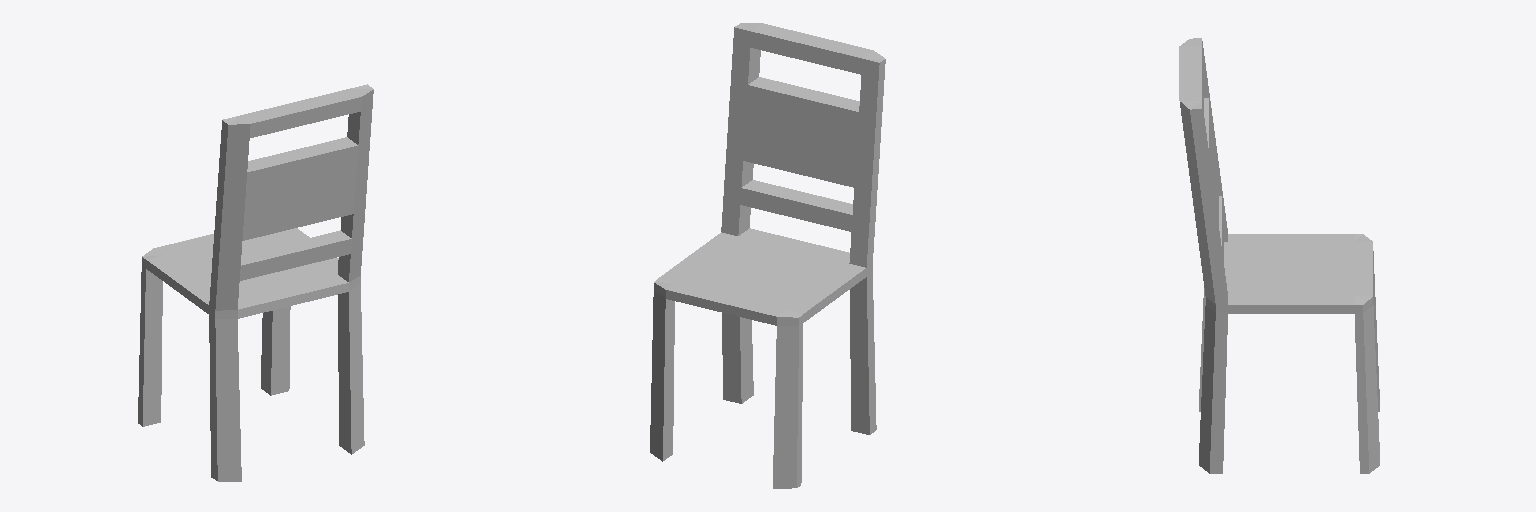
The model's file is kursi.obj.
The picture shows the model from 3 angles: view 1: azimuth 30°, elevation 25°; view 2: azimuth 150°, elevation 25°; view 3: azimuth 270°, elevation 25°; orthographic projection.
Visible parts, largest first — view 1: Cube.021_Cube.024; view 2: Cube.021_Cube.024; view 3: Cube.021_Cube.024.
Boxes of the visible parts, x1,y1,x2,y2 form: Cube.021_Cube.024: [138, 84, 373, 481]; Cube.021_Cube.024: [650, 23, 885, 488]; Cube.021_Cube.024: [1179, 38, 1379, 473].
Size of the model in its own units: 0.3534 by 0.839 by 0.4189.